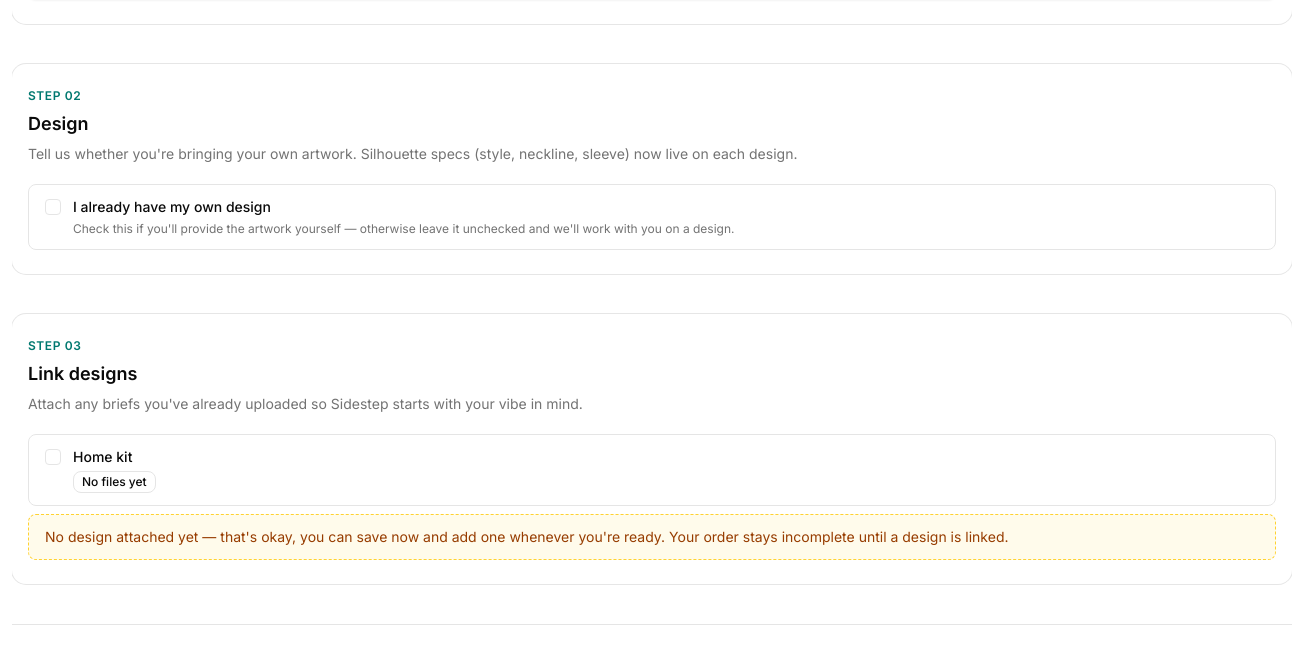
Test: OrderForm — progress gate › clears the design milestone once a design is checked
This screenshot has width=1304, height=654.
(page scrolled)
Click the checkbox named "home kit" next to "Home kit".
click(53, 457)  # box [45,449,61,465]
(page scrolled)
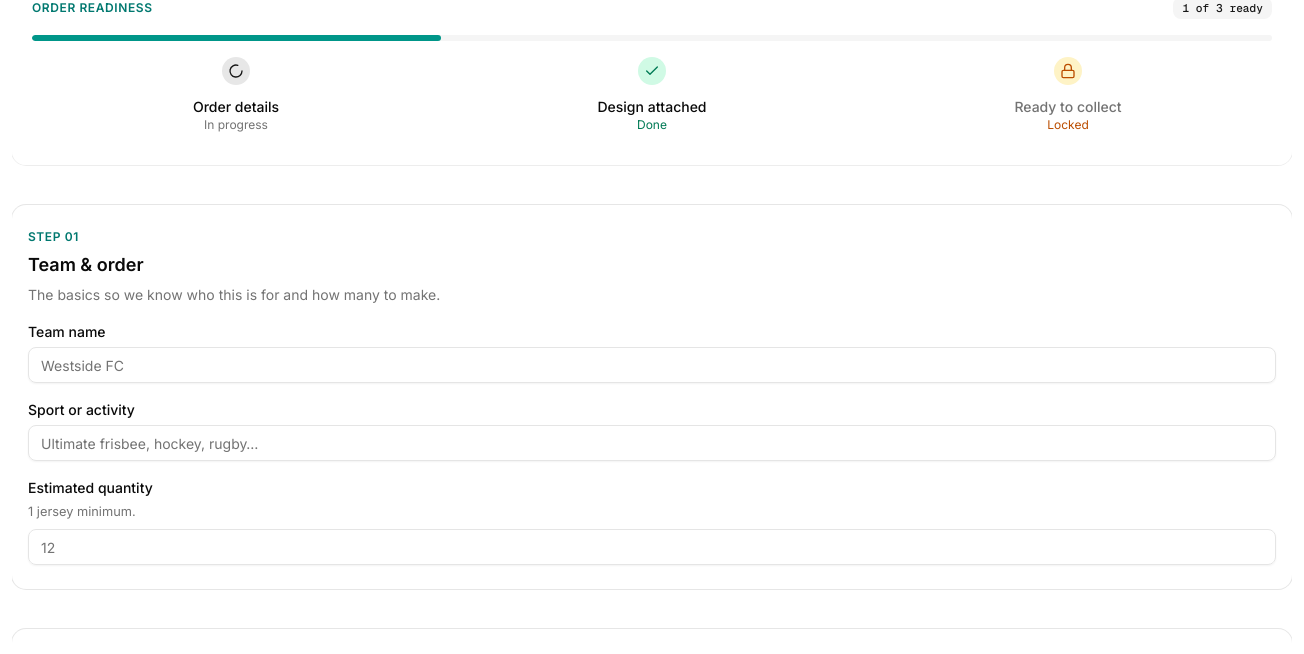
Expected: the text "Done" is shown, [637,117,667,132]
Expected: the text "No design attached yet" is gone
